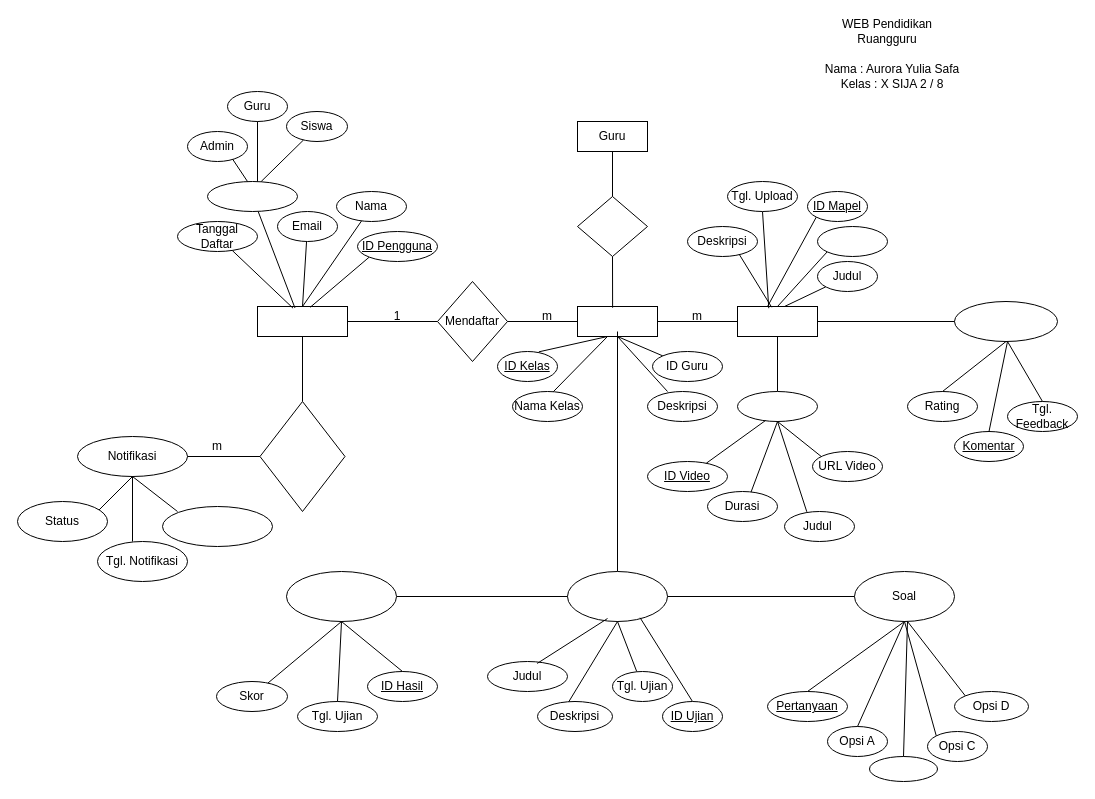
Some shapes in this 1095 by 799 pixel diagram are drawn without their labels. Here are the shapes that lost their labels. From the top down, the centre of each, then its label:
At [252,196]: "Tipe Pengguna".
At [612,226]: "Mengajar".
At [852,241]: "ID Materi".
At [302,321]: "Pengguna".
At [617,321]: "Kelas".
At [777,321]: "Materi".
At [1006,321]: "Feedback".
At [777,406]: "Video".
At [302,456]: "Menerima".
At [217,526]: "Isi Notifikasi".
At [341,596]: "Hasil Ujian".
At [617,596]: "Ujian".
At [903,769]: "Opsi B".
